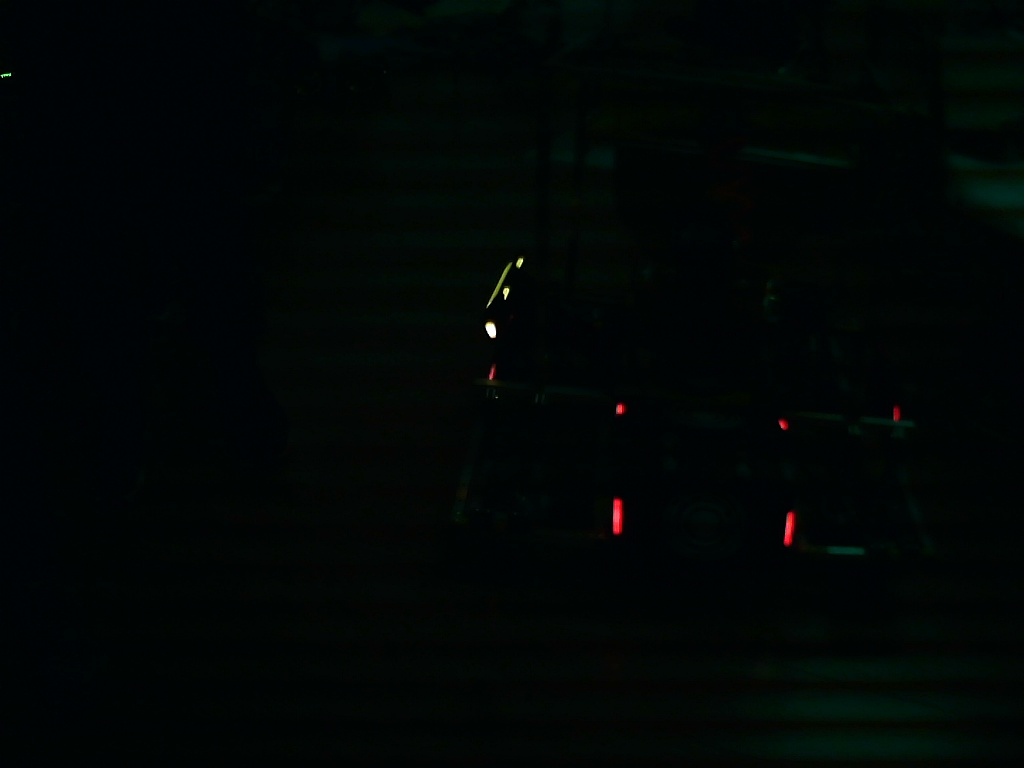lamp: (605, 494, 626, 535), (779, 508, 800, 549)
